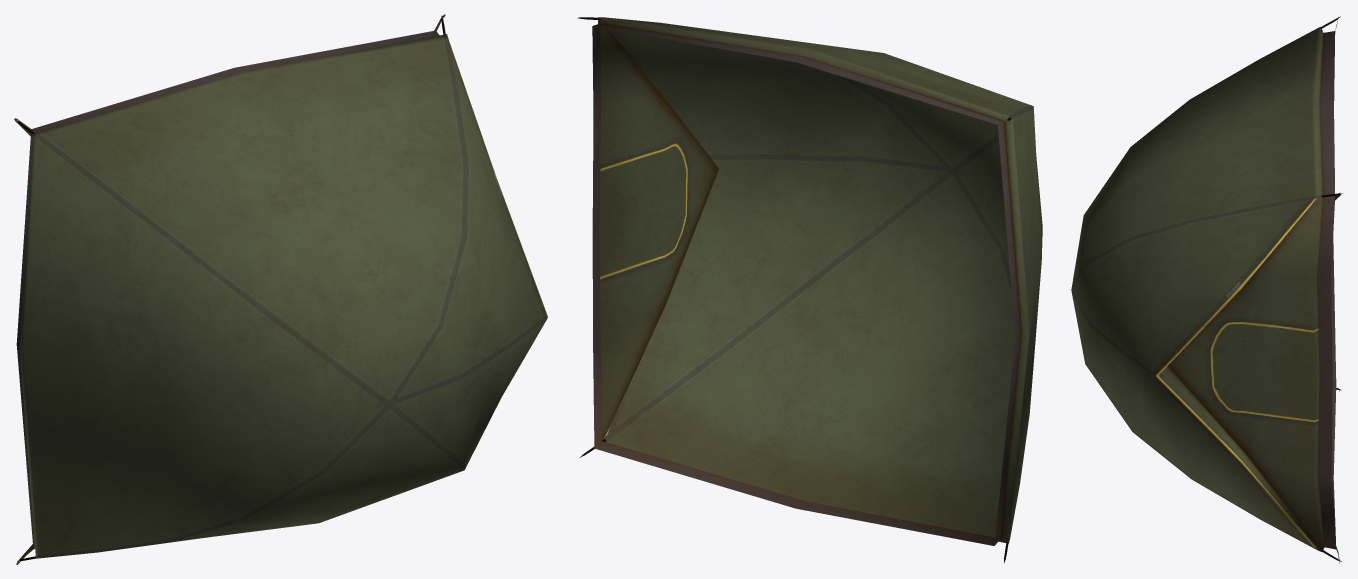
Rendered from Tent_two.fbx.
3 views of the same model, side by side, from view 1: azimuth 30°, elevation 25°; view 2: azimuth 150°, elevation 25°; view 3: azimuth 270°, elevation 25° (orthographic). The views are drawn at different scales.
Visible parts, largest first — view 1: Cube; view 2: Cube; view 3: Cube.
Part boxes in pixels (x1=…): Cube: x1=14, y1=14, x2=547, y2=564; Cube: x1=577, y1=17, x2=1042, y2=563; Cube: x1=1071, y1=16, x2=1342, y2=563.
Size of the model in its own units: 2.02 by 2 by 1.29.
